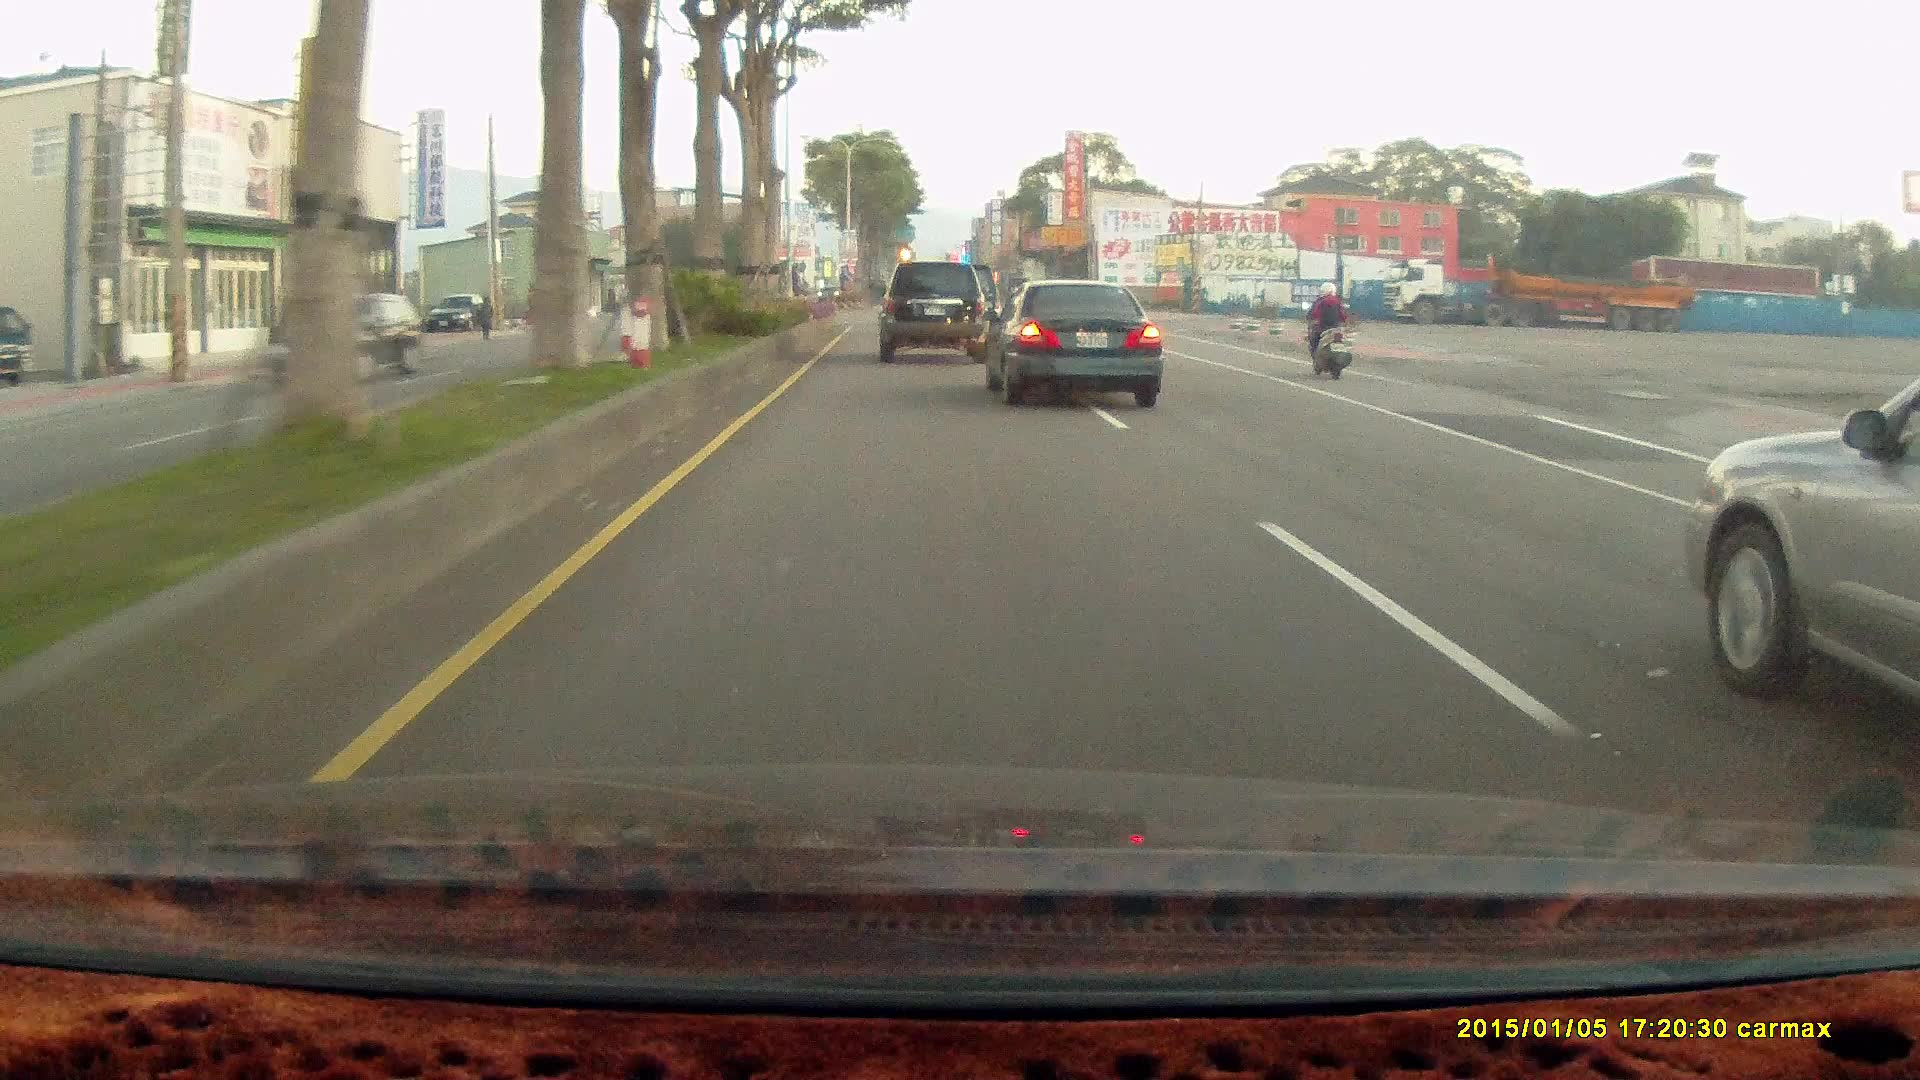rider: (1292, 272, 1362, 389), (1298, 282, 1351, 379)
vehicle: (1683, 378, 1920, 724), (979, 277, 1161, 406), (1379, 259, 1691, 333), (992, 277, 1167, 404), (987, 279, 1163, 402), (268, 291, 424, 386), (880, 262, 1001, 365), (876, 260, 989, 362), (1, 305, 40, 384), (1, 304, 39, 383), (425, 291, 489, 331)
